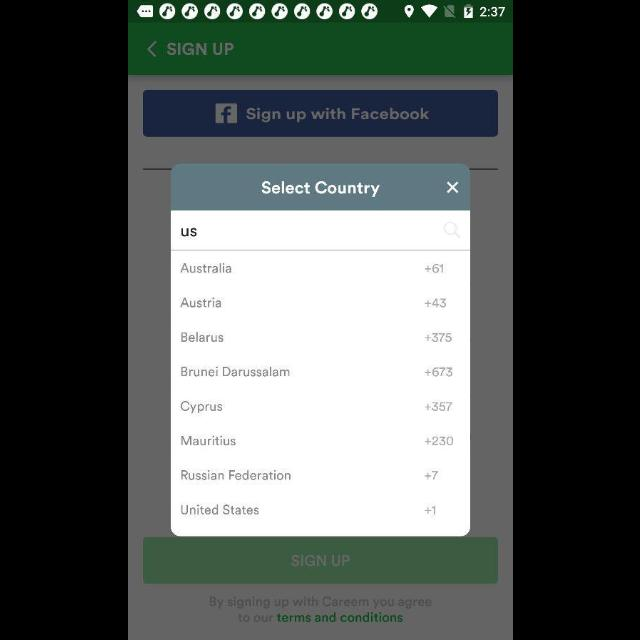icon: (442, 222, 461, 238), (444, 181, 460, 195), (146, 42, 156, 58)
panel: (170, 164, 470, 536)
text: (210, 596, 430, 622), (262, 180, 380, 198), (181, 469, 293, 481), (180, 367, 290, 378), (180, 503, 260, 515), (166, 42, 234, 56), (181, 434, 237, 446), (180, 262, 232, 274), (180, 400, 222, 414), (180, 331, 224, 343), (179, 297, 221, 309), (425, 366, 453, 378), (425, 401, 453, 412), (424, 436, 454, 446), (424, 332, 452, 342), (425, 298, 447, 308), (424, 264, 444, 274), (180, 228, 197, 238), (424, 470, 438, 480), (424, 506, 436, 516)
textbutton: (142, 90, 498, 138), (142, 538, 498, 584)
uppertaskbar: (128, 1, 512, 23)
